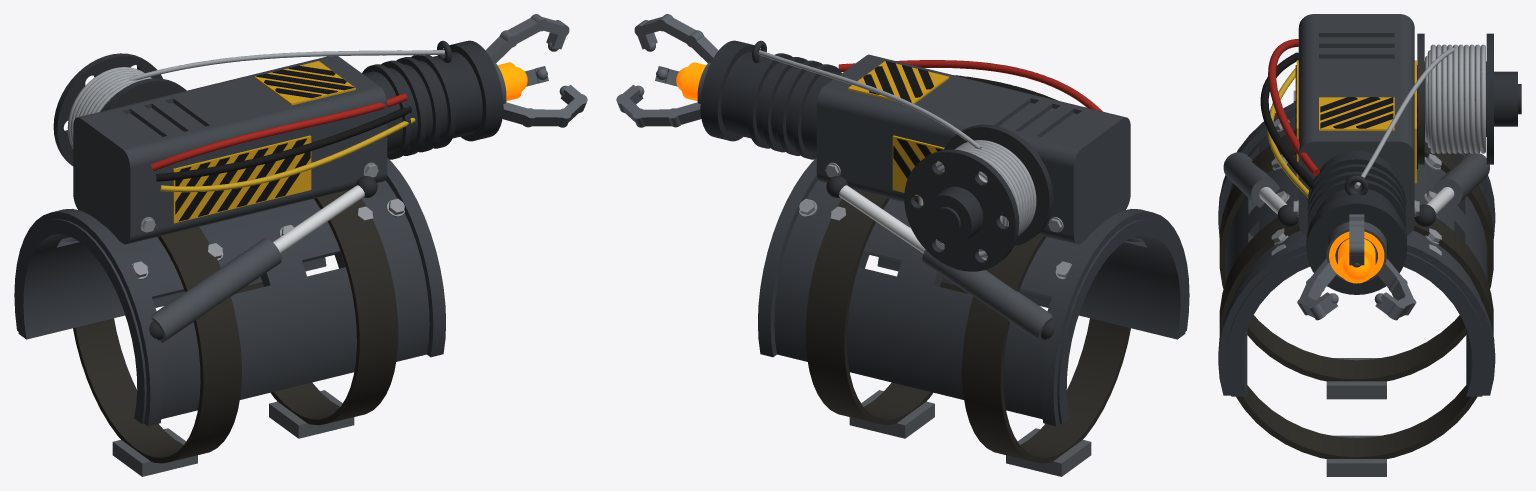
The model's file is gad_grapple.glb.
The picture shows the model from 3 angles, left to right: view 1: azimuth 30°, elevation 25°; view 2: azimuth 150°, elevation 25°; view 3: azimuth 270°, elevation 25°; orthographic projection.
Parts seen in each view (by area): view 1: forearm_bracket, launcher_housing, straps, barrel, hazard_stripes, hazard_paint, piston_cylinders, claw_prongs, steel_wire, cable_spool, strap_buckles, wire_black (+5 smaller); view 2: forearm_bracket, launcher_housing, straps, cable_spool, barrel, steel_wire, claw_prongs, piston_cylinders, strap_buckles, hazard_paint, hazard_stripes, wire_red (+3 smaller); view 3: straps, forearm_bracket, launcher_housing, barrel, steel_wire, claw_prongs, cable_spool, piston_cylinders, strap_buckles, hazard_stripes, hazard_paint, electromagnet_core (+7 smaller).
Boxes of the visible parts, x1,y1,x2,y2 form: forearm_bracket: (14, 158, 445, 426); launcher_housing: (73, 56, 387, 244); straps: (73, 190, 398, 463); barrel: (362, 40, 503, 159); hazard_stripes: (175, 65, 354, 221); hazard_paint: (173, 61, 355, 223); piston_cylinders: (60, 237, 281, 342); claw_prongs: (485, 14, 587, 127); steel_wire: (67, 50, 444, 148); cable_spool: (53, 53, 186, 166); strap_buckles: (112, 390, 354, 476); wire_black: (156, 106, 411, 181); forearm_bracket: (758, 158, 1189, 426); launcher_housing: (816, 54, 1130, 244); straps: (805, 190, 1130, 463); cable_spool: (904, 124, 1053, 271); barrel: (700, 40, 841, 159); steel_wire: (758, 50, 1036, 257); claw_prongs: (616, 14, 718, 127); piston_cylinders: (922, 237, 1143, 342); strap_buckles: (849, 390, 1091, 476); hazard_paint: (848, 61, 949, 195); hazard_stripes: (863, 61, 943, 178); wire_red: (838, 60, 1102, 111); straps: (1219, 130, 1493, 458); forearm_bracket: (1218, 103, 1495, 396); launcher_housing: (1298, 14, 1414, 235); barrel: (1306, 151, 1406, 294); steel_wire: (1354, 44, 1485, 188); claw_prongs: (1297, 214, 1416, 320); cable_spool: (1417, 33, 1521, 164); piston_cylinders: (1223, 152, 1489, 207); strap_buckles: (1326, 358, 1386, 476); hazard_stripes: (1295, 65, 1417, 168); hazard_paint: (1296, 60, 1416, 183); electromagnet_core: (1329, 231, 1384, 283).
Size of the model in its own units: 0.2266 by 0.1574 by 0.1205.
